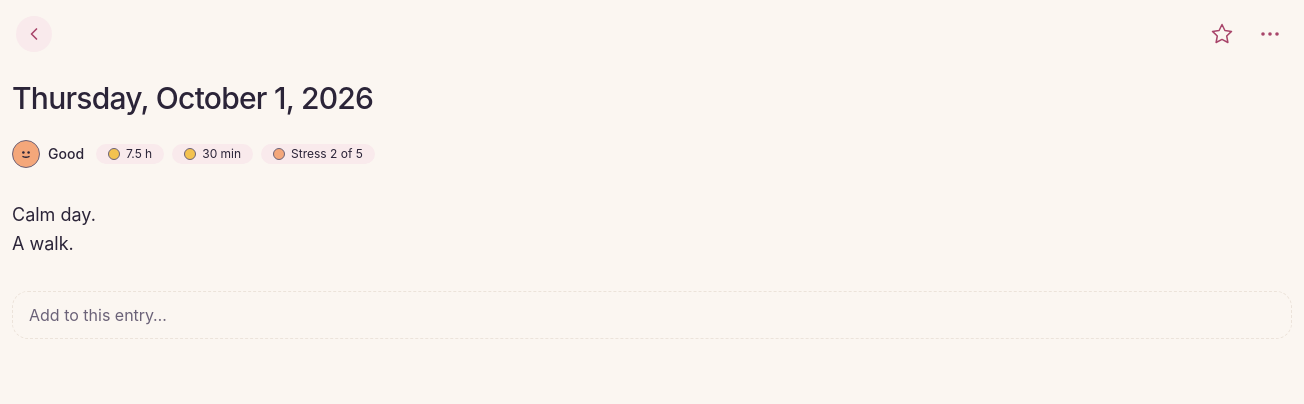
Scenario: EntryScreen: the view › ★ saves straight away; a failed save puts it back and offers Try again (decision 111)
Step 1. Click the button with test id "entry-moment-toggle" → (1222, 34), box [1200, 12, 1244, 56]
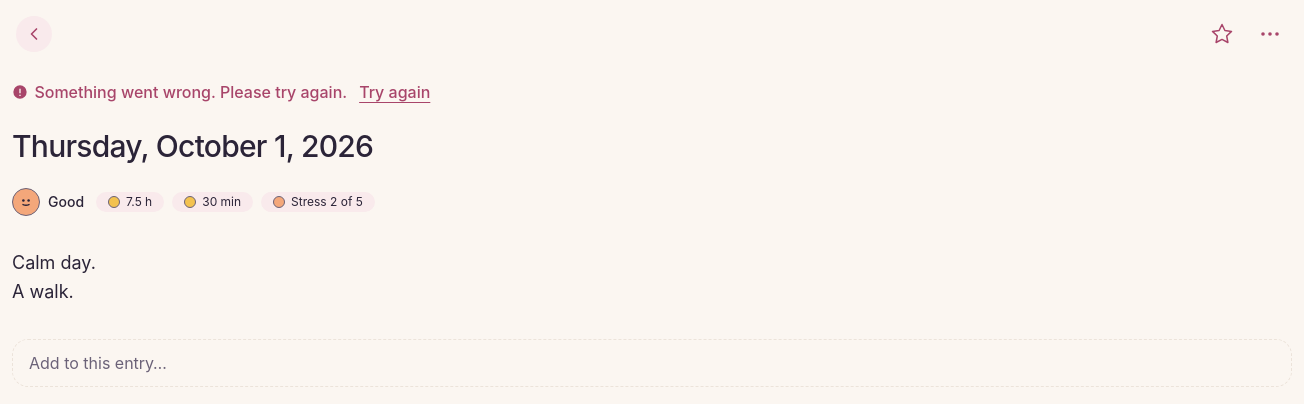
Step 2. Click the button with test id "entry-moment-retry" → (395, 92), box [359, 80, 430, 104]
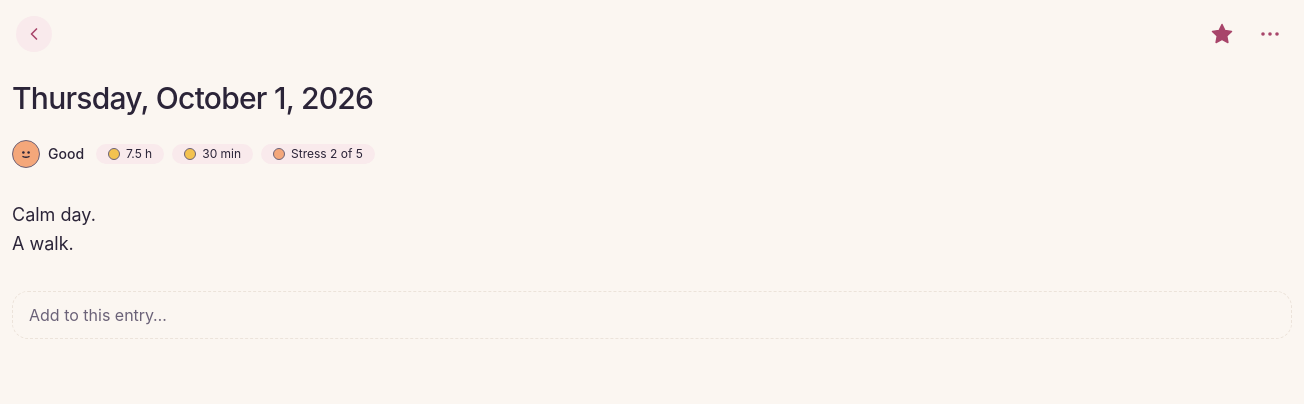
Expected: the message with test id "entry-moment-error" is gone
